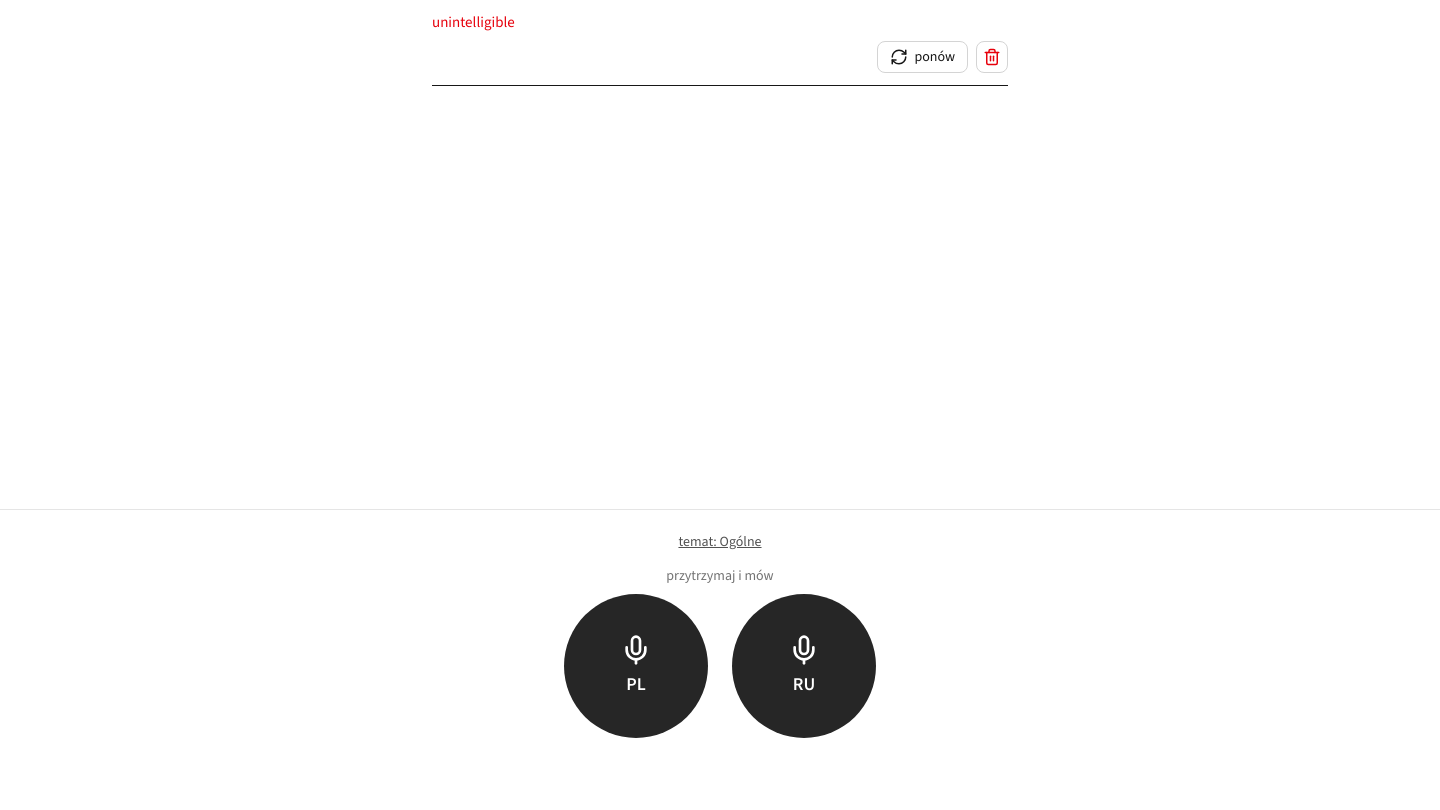
Test: AddPage ponów › shows the transcript that the retried recognition produced
What coordinates should you click on to do the following:
click the button "ponów"
I would click on:
 (923, 57)
Its box is x1=877 y1=41 x2=968 y2=73.
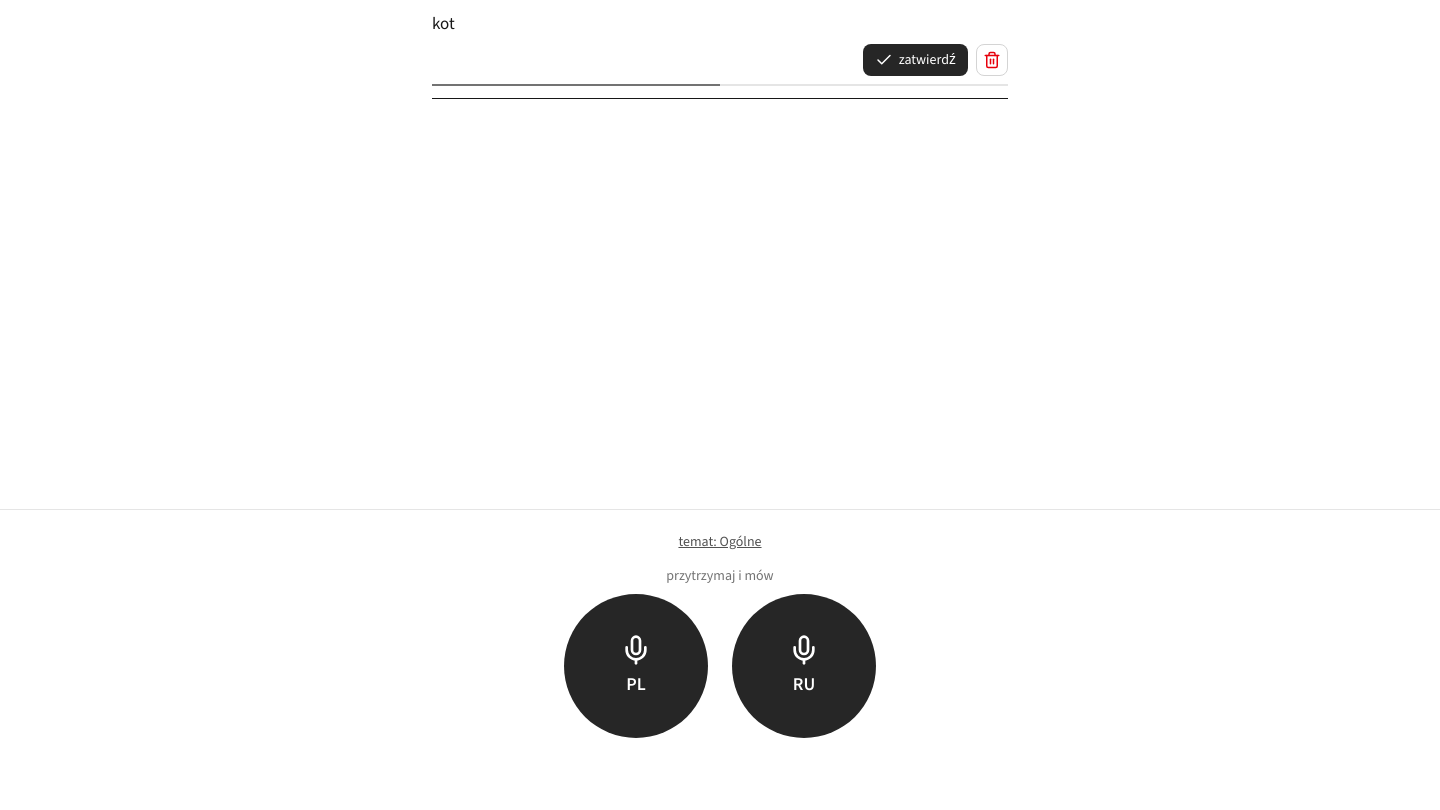
Now the text "kot" is shown, box x1=432 y1=12 x2=455 y2=35
